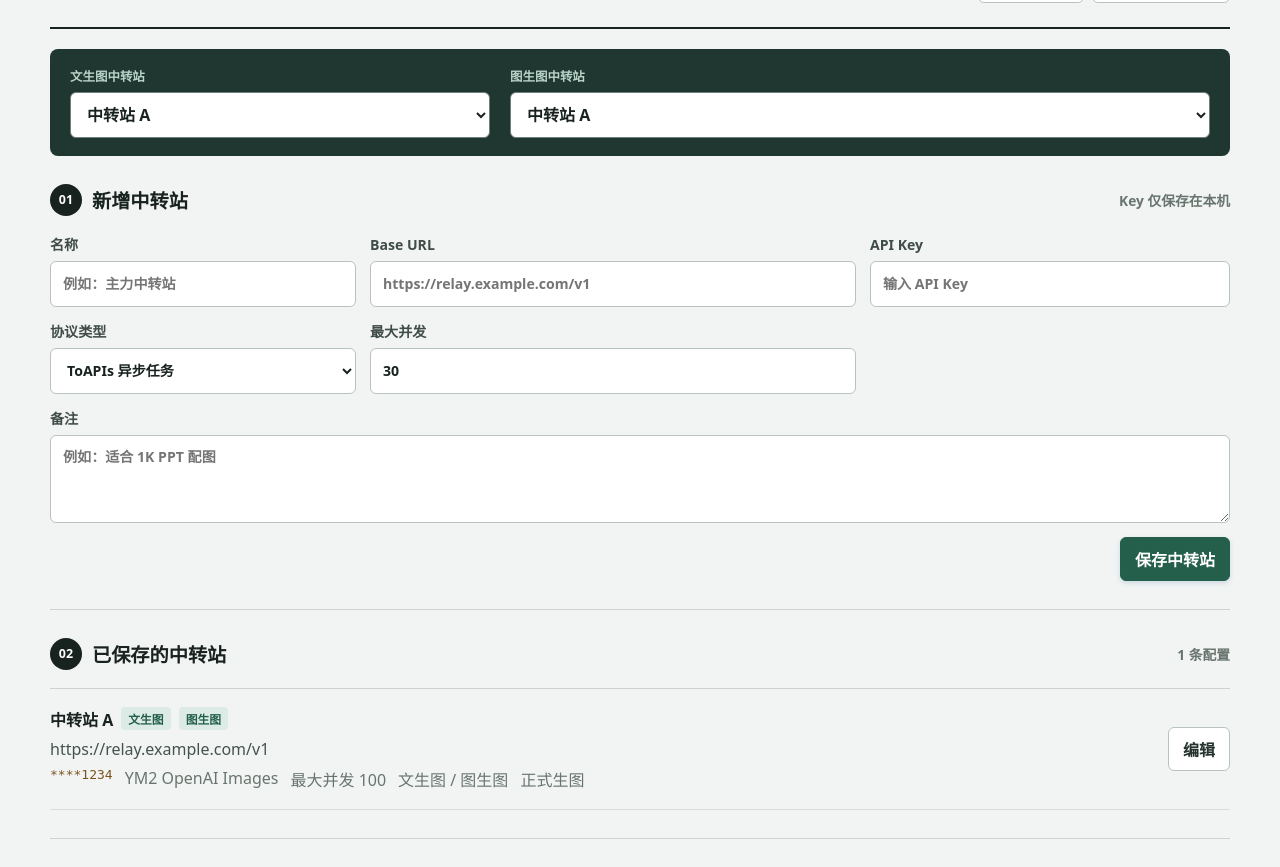
Test: SettingsPage › edits with a blank key and displays an unsafe-edit conflict
(page scrolled)
Click the button with aria-label "编辑中转站 A" at (1199, 749), box [1168,727,1230,771]
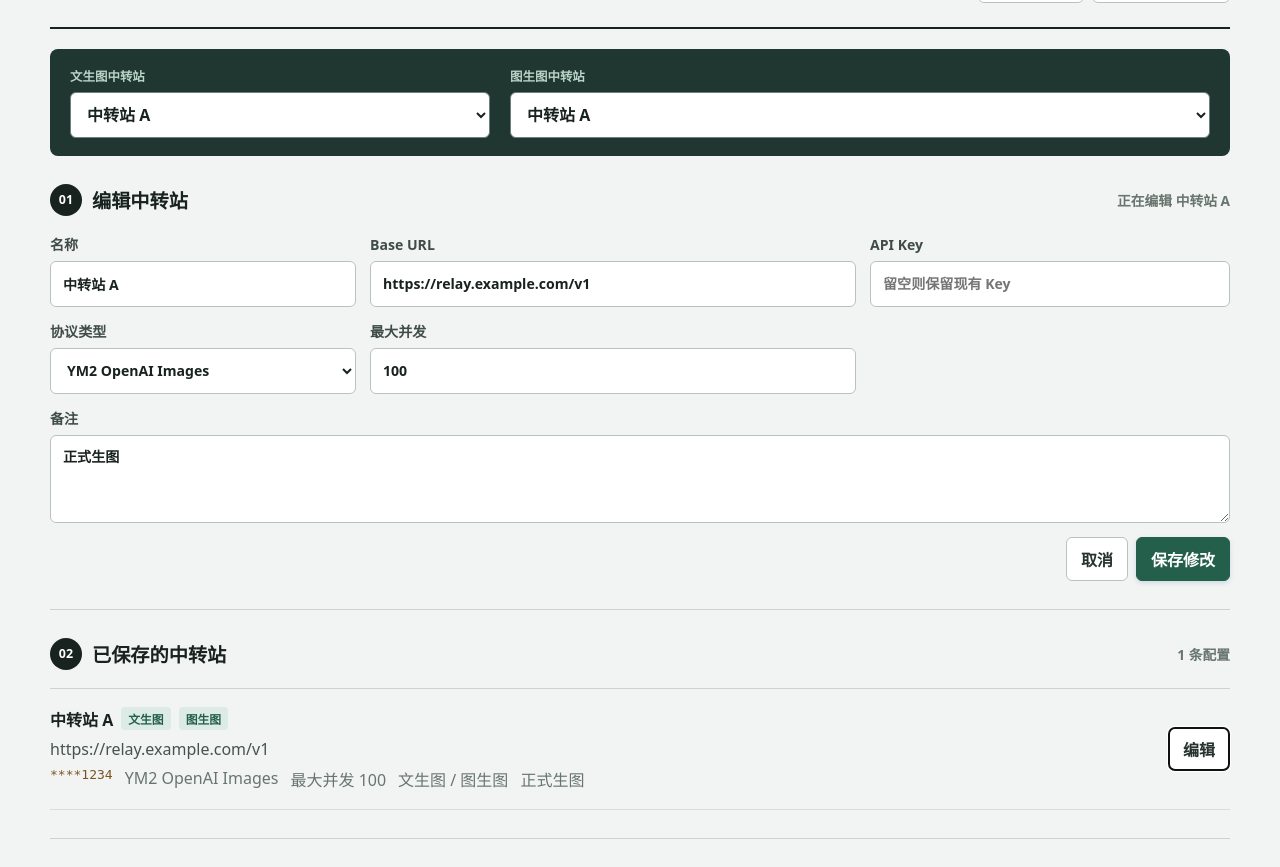
Expected: the password field labelled "API Key" is empty, [870,261,1230,307]
Type "https://relay.example.com/v2" into the field labelled "Base URL" at (613, 284), box [370,261,856,307]
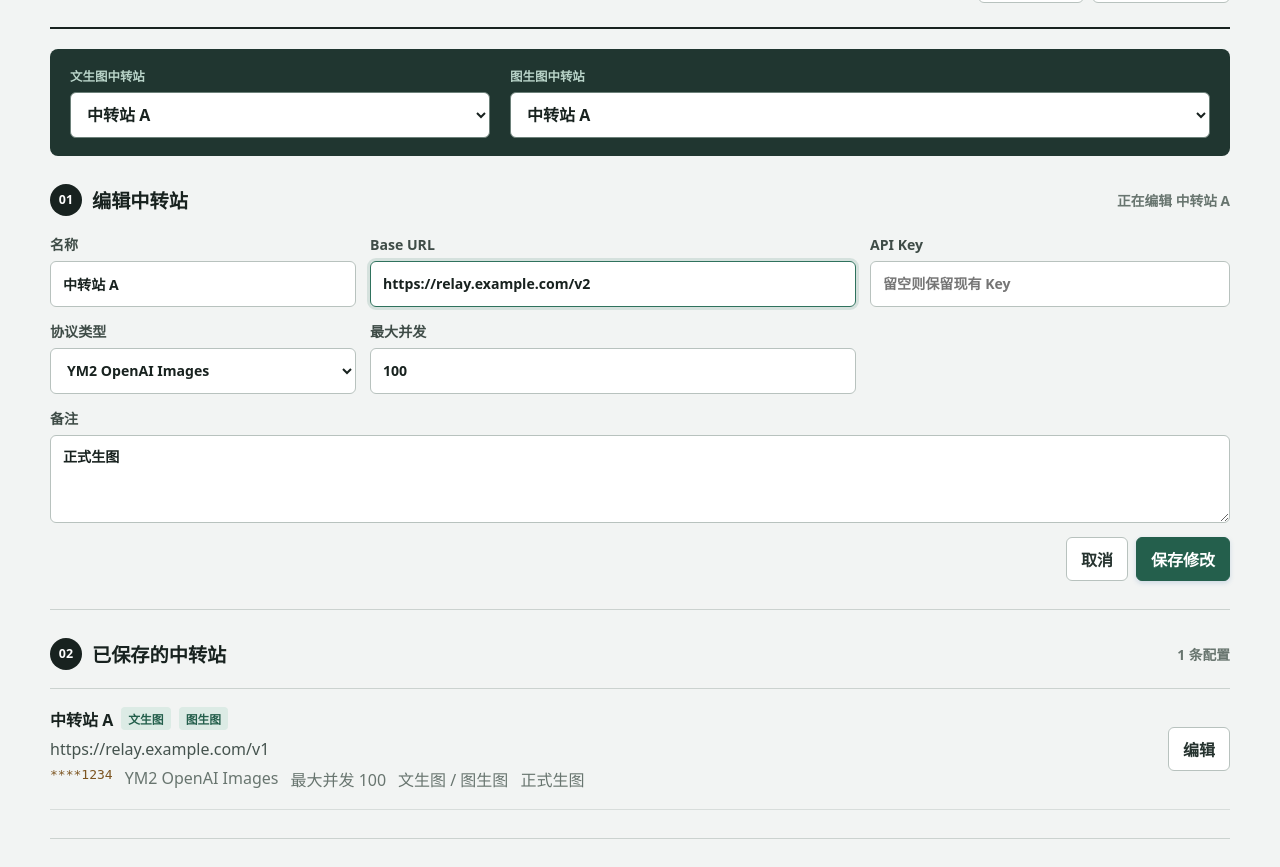
Click the button "保存修改" at (1183, 559), box [1136,537,1230,581]
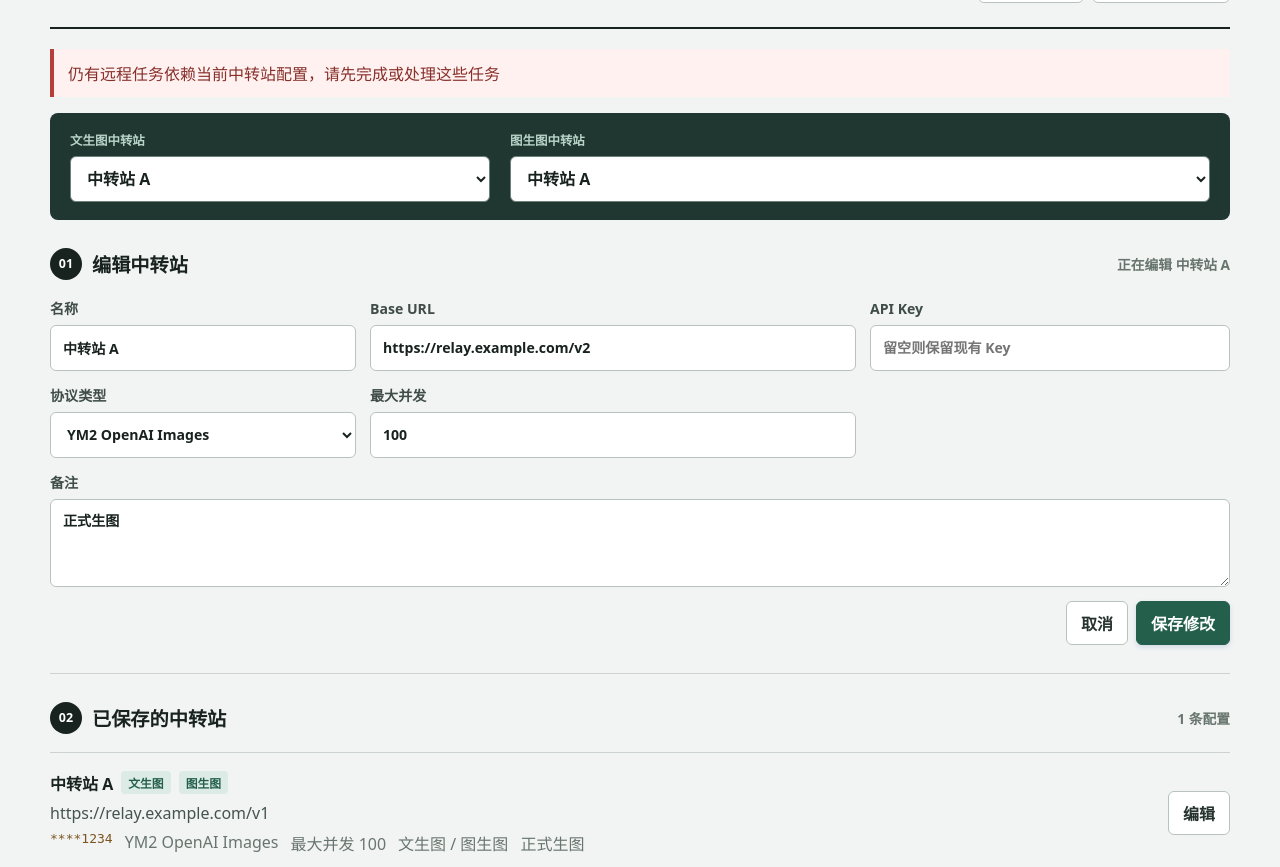
Result: the message reads "仍有远程任务依赖当前中转站配置，请先完成或处理这些任务" at [68,63,500,85]
